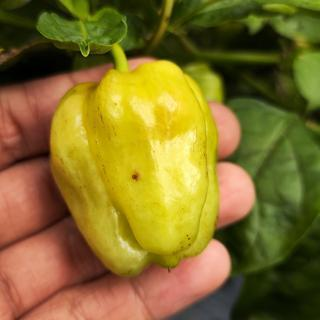Fly-bites: (125, 163, 147, 186)
